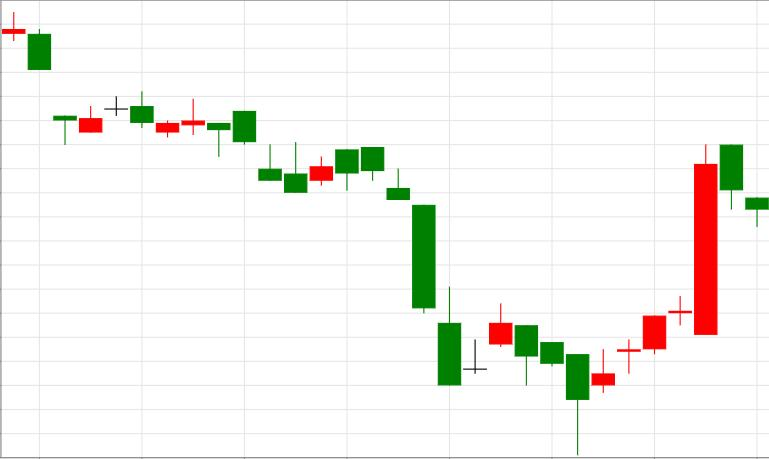hammer_rise: (361, 146, 589, 455)
